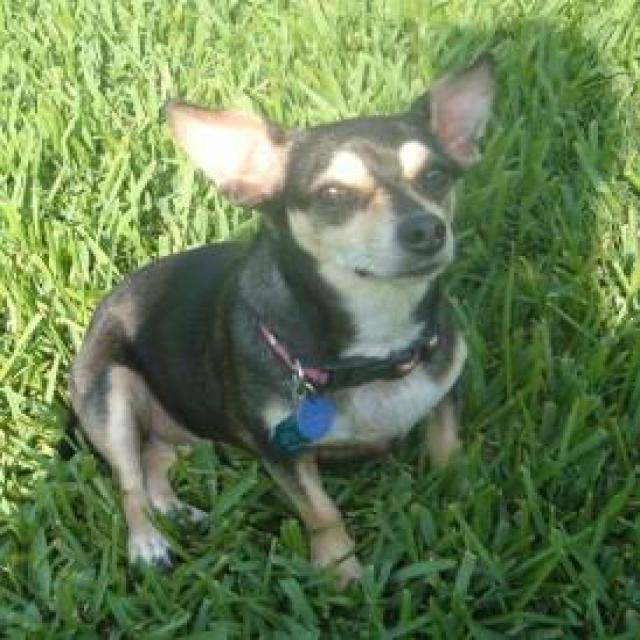dog-chihuahua: (56, 43, 505, 567)
